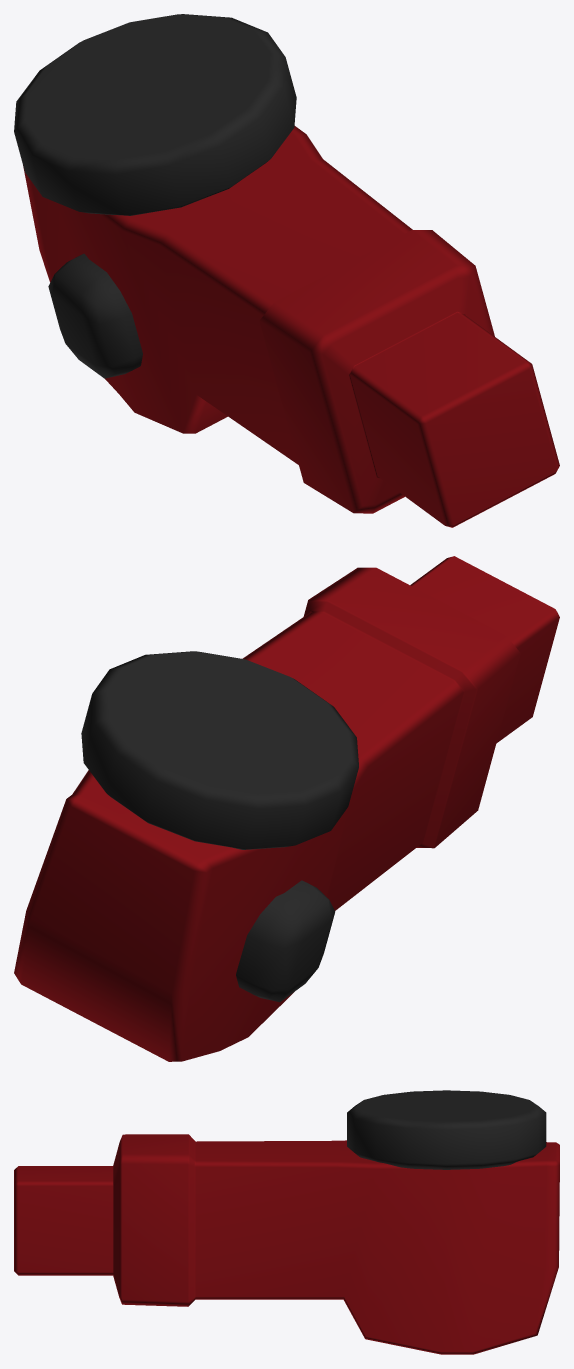
Rendered from Ship_enemy_08_Weapon_R.fbx.
3 renders of one model, top to bottom at view 1: azimuth 30°, elevation 25°; view 2: azimuth 150°, elevation 25°; view 3: azimuth 270°, elevation 25°, orthographic. The views are drawn at different scales.
Visible parts, largest first — view 1: Ship_enemy_08_Weapon_R; view 2: Ship_enemy_08_Weapon_R; view 3: Ship_enemy_08_Weapon_R.
Part boxes in pixels (x1,y1,x2,y2): Ship_enemy_08_Weapon_R: (14, 14, 559, 527); Ship_enemy_08_Weapon_R: (14, 556, 559, 1061); Ship_enemy_08_Weapon_R: (14, 1090, 559, 1354).
Bounding box in the file's own units: 81.47 × 96.57 × 193.
